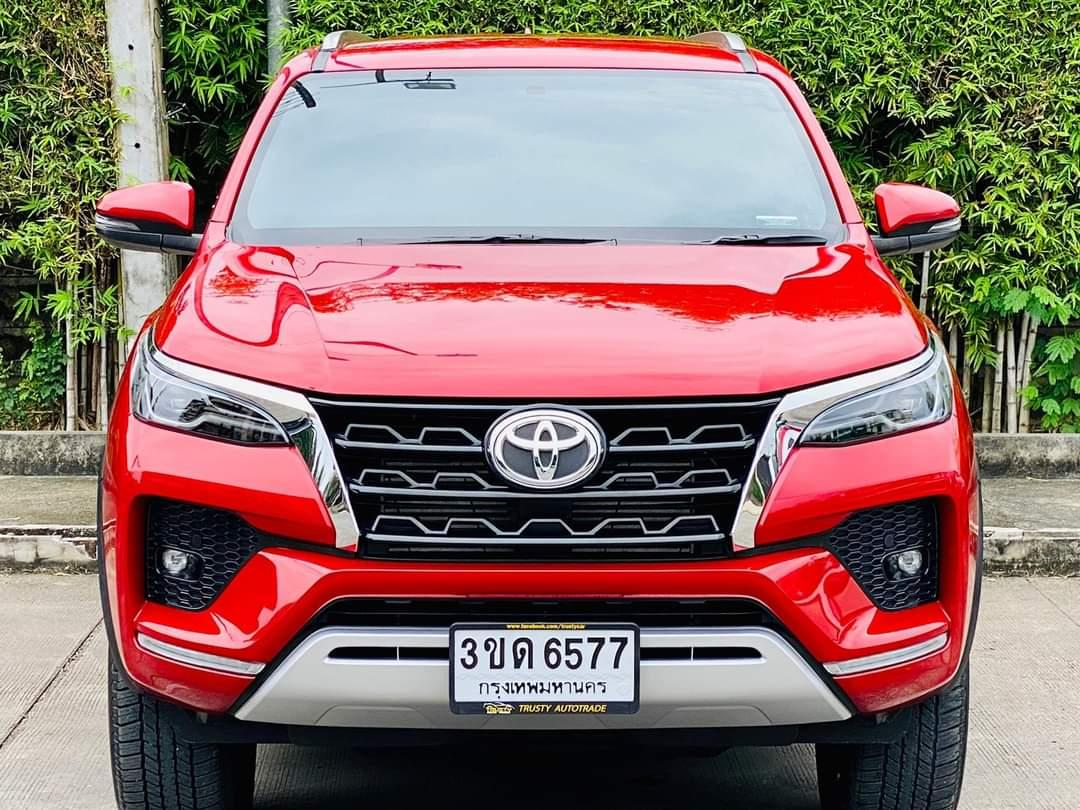license-plate: (446, 613, 641, 719)
